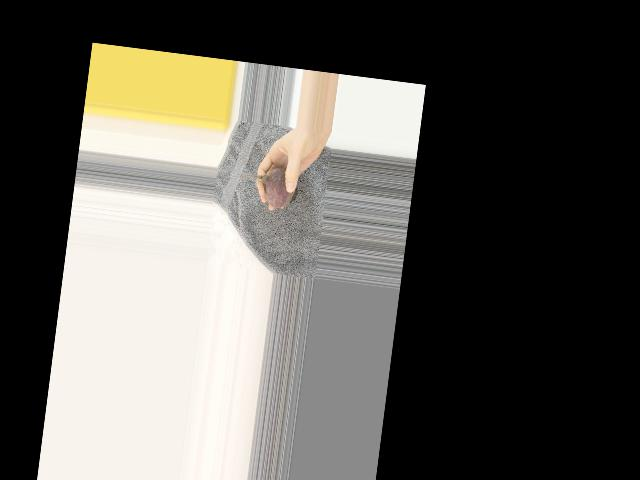beet: (235, 162, 301, 210)
